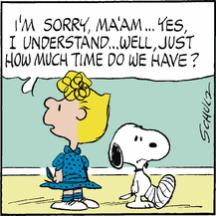snoopy: (106, 122, 178, 210)
